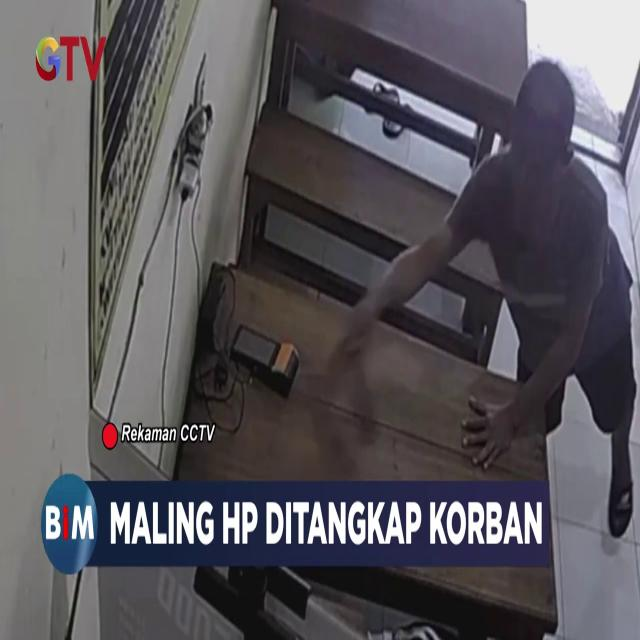pencurian: (298, 61, 638, 473)
